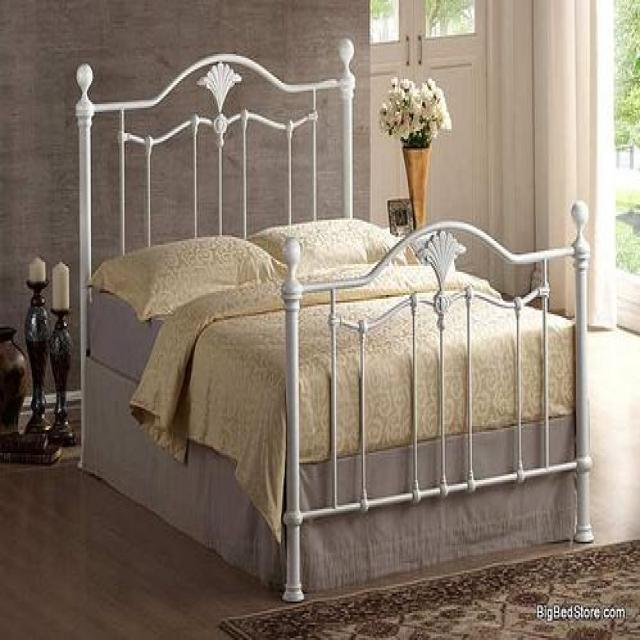bed: (73, 37, 594, 603)
